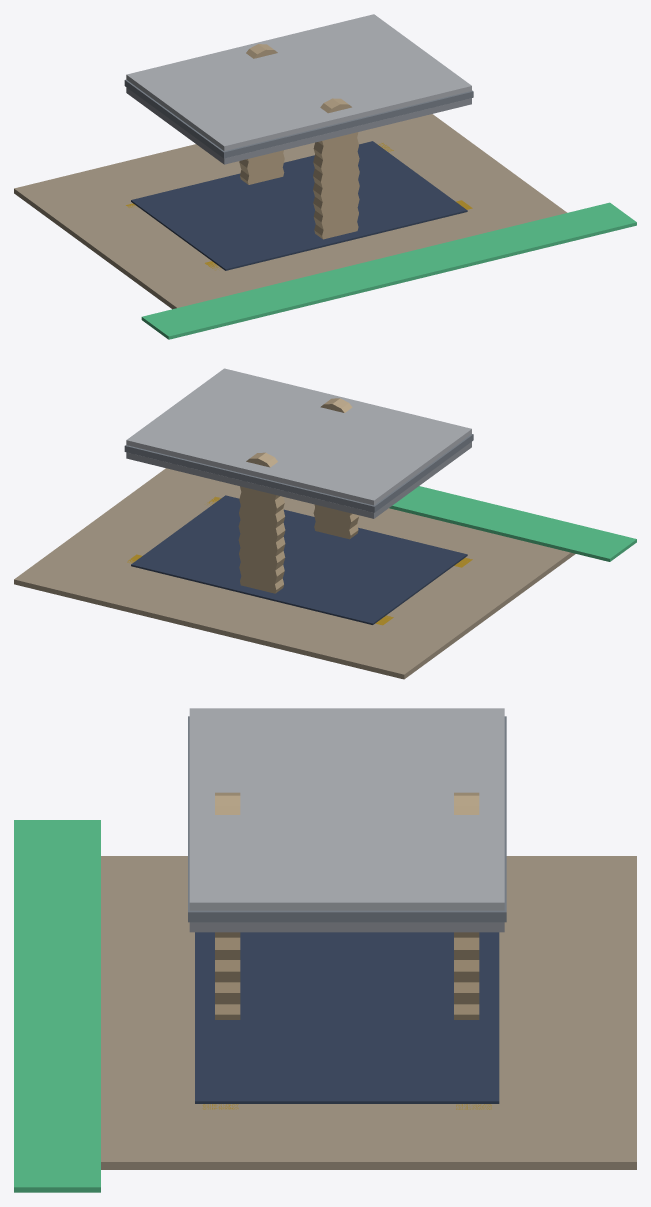
The model's file is stage_07_complete.glb.
3 renders of one model, top to bottom at view 1: azimuth 30°, elevation 25°; view 2: azimuth 150°, elevation 25°; view 3: azimuth 270°, elevation 25°, orthographic. The views are drawn at different scales.
Visible parts, largest first — view 1: world; view 2: world; view 3: world.
Boxes of the visible parts, box(x1,y1,x2,y2) form: world: box(14, 14, 636, 339); world: box(14, 368, 636, 679); world: box(14, 708, 636, 1192).
Size of the model in its own units: 12 by 4.05 by 8.6.
